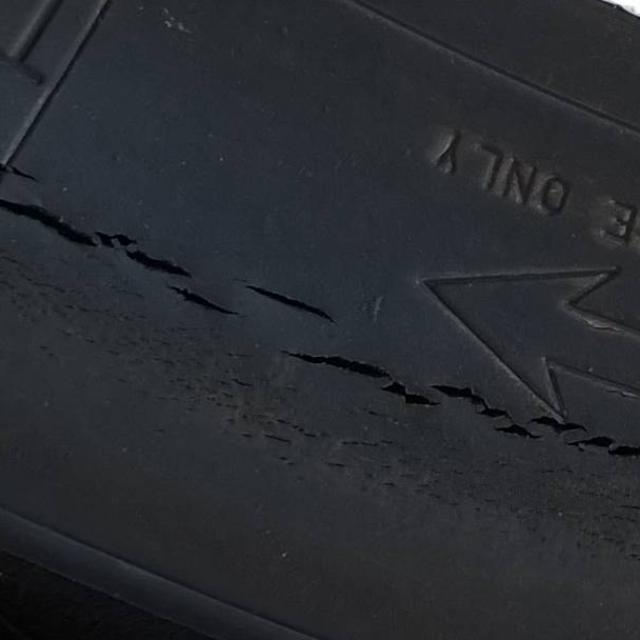Cracks: (0, 136, 639, 585)
